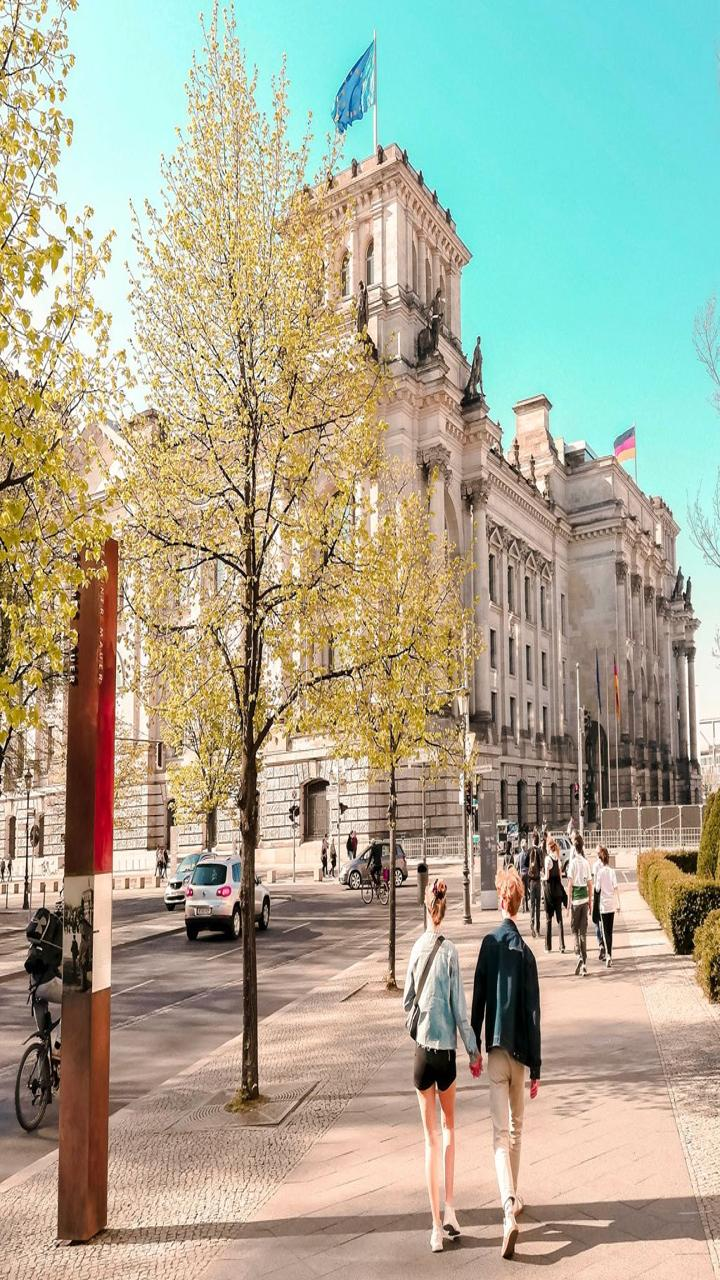pedestrian: (391, 872, 479, 1257), (464, 874, 552, 1259), (590, 844, 646, 973), (555, 831, 600, 979)
vehicle: (170, 845, 270, 948)
